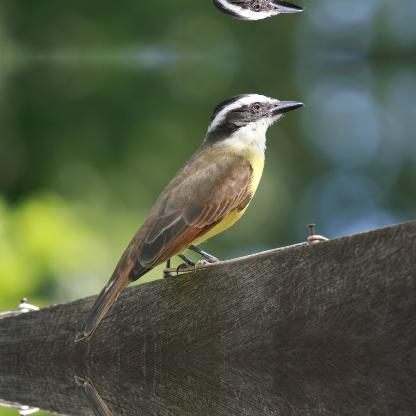Bird: (74, 97, 300, 336)
